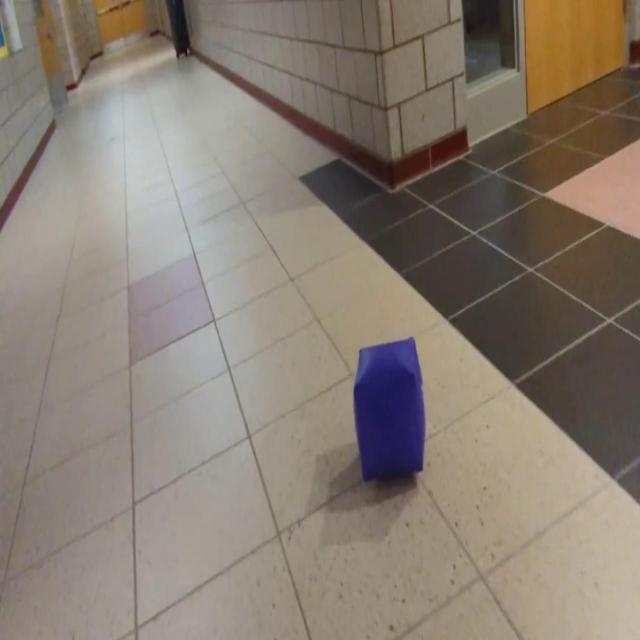frc_cube: (354, 336, 426, 476)
